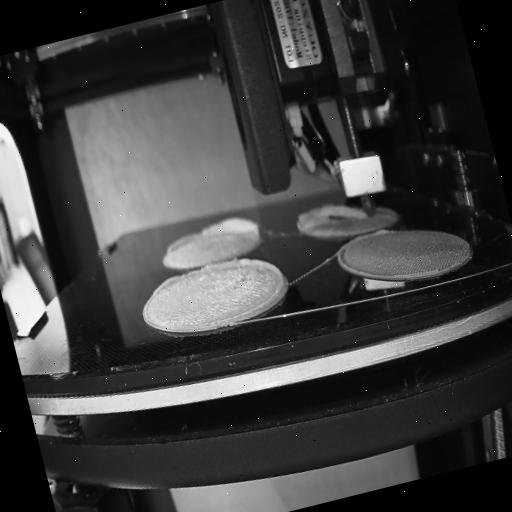over_extrusion: (203, 248, 293, 326), (292, 194, 368, 234), (197, 210, 266, 252), (148, 270, 188, 298), (160, 232, 197, 259), (373, 225, 391, 236)
